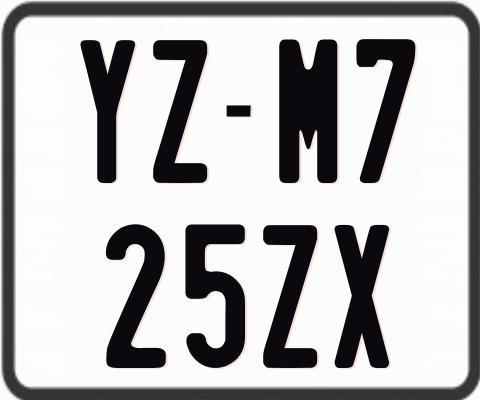2: (106, 224, 171, 370)
5: (185, 222, 246, 369)
7: (356, 38, 415, 187)
M: (277, 38, 340, 188)
X: (333, 223, 389, 371)
Y: (81, 40, 139, 183)
Z: (263, 224, 320, 373), (150, 40, 208, 186)
